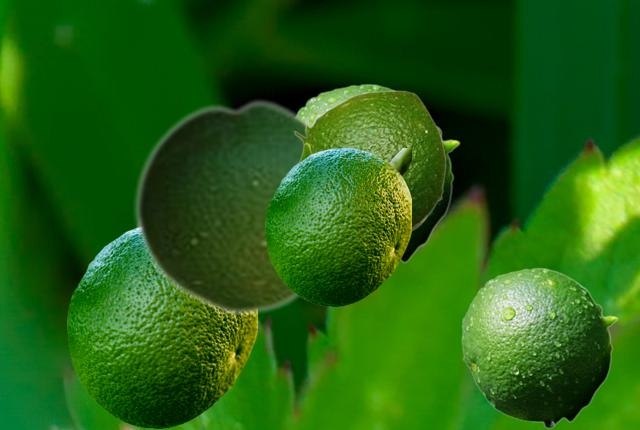dalandan: (133, 96, 312, 317), (67, 228, 256, 427), (297, 83, 459, 265), (461, 267, 617, 428), (265, 148, 410, 305), (293, 90, 445, 232)
